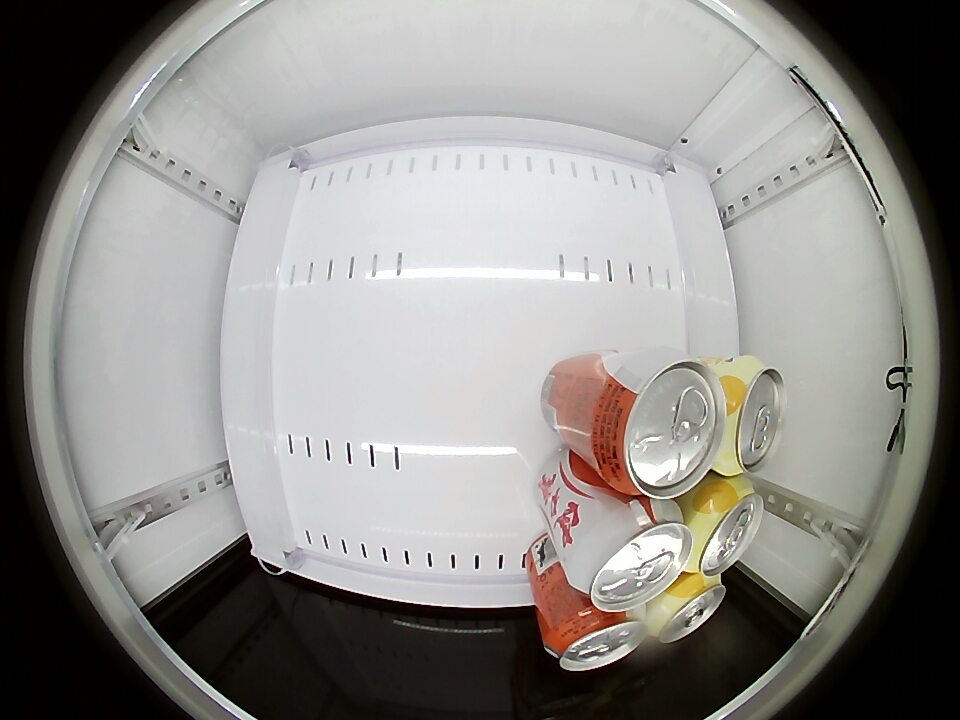jianlibao: (594, 358, 727, 500), (567, 501, 692, 614), (545, 607, 646, 671)
mangguoxiaolao: (714, 356, 785, 477), (686, 478, 765, 576), (647, 573, 726, 644)
